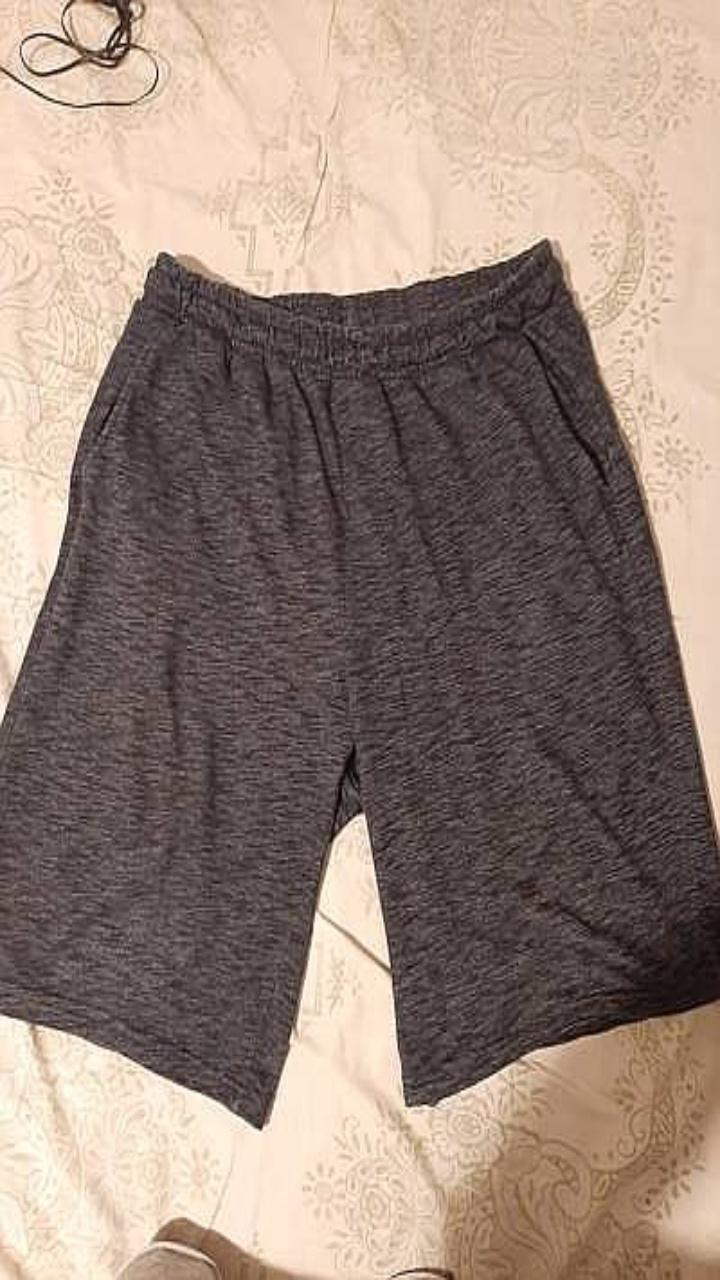Shorts: (0, 240, 719, 1126)
